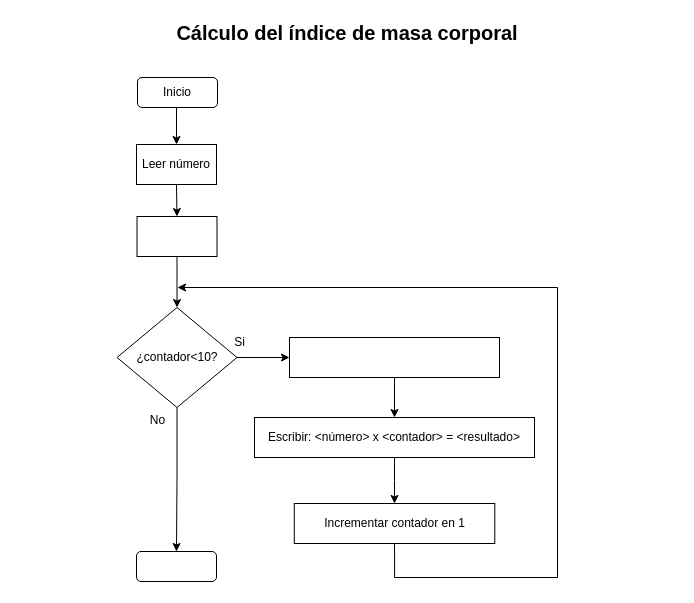
Image size: 694x603. Some labels were removed from this diagram. Here are the shapes that lost their labels. From the top down, the box of each, then its label:
(136, 216, 217, 256): contador=1
(288, 336, 500, 378): resultado = número x contador
(136, 550, 216, 582): Fin
